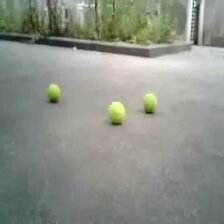tennis: (107, 102, 126, 123), (142, 94, 157, 112), (47, 83, 62, 99)
